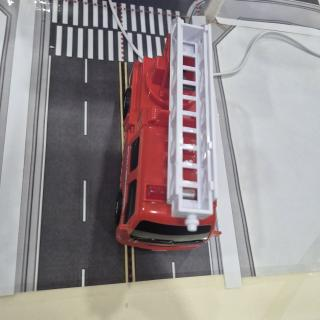Fire_truck: (115, 18, 221, 250)
